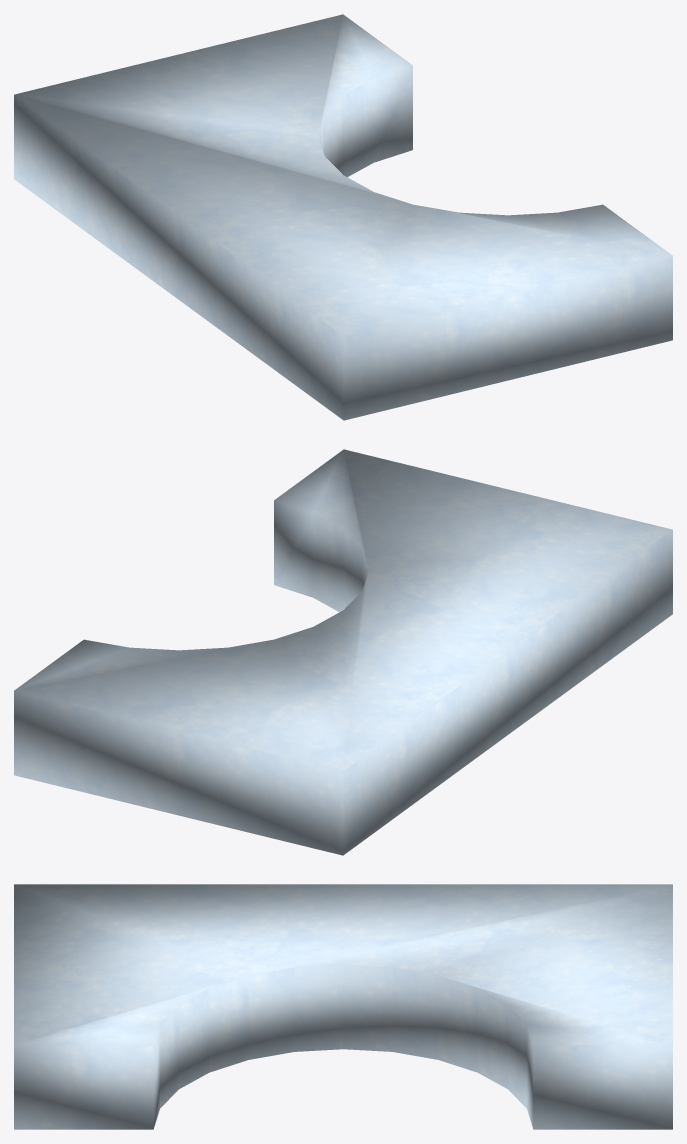
Rendered from Cueva.dae.
3 renders of one model, top to bottom at view 1: azimuth 30°, elevation 25°; view 2: azimuth 150°, elevation 25°; view 3: azimuth 270°, elevation 25°, orthographic.
Parts seen in each view (by area): view 1: SketchUp; view 2: SketchUp; view 3: SketchUp.
Boxes of the visible parts, bbox=[...] form: SketchUp: bbox=[14, 14, 672, 420]; SketchUp: bbox=[14, 449, 672, 855]; SketchUp: bbox=[14, 884, 672, 1129].
Bounding box in the file's own units: 292 × 506 × 71.65.
1 material, 1 textured.
